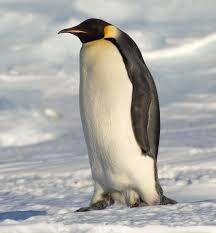emporer: (58, 5, 177, 225)
